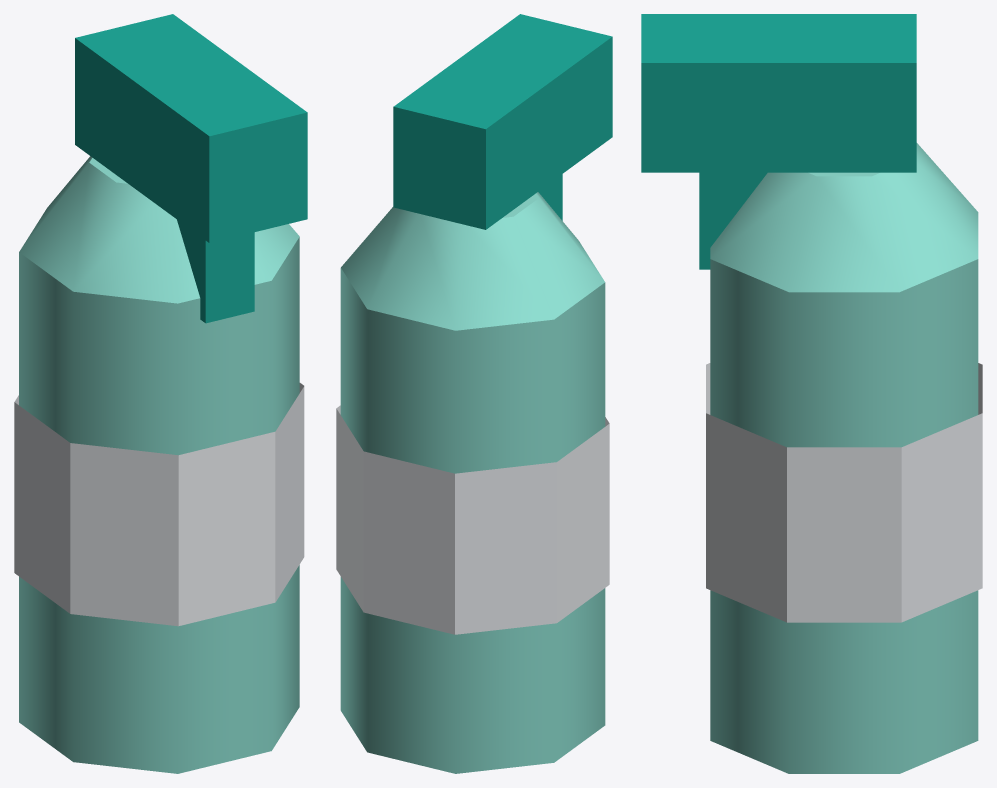
File: CM_Product_CleaningSpray.fbx
3 views of the same model, side by side, from view 1: azimuth 30°, elevation 25°; view 2: azimuth 150°, elevation 25°; view 3: azimuth 270°, elevation 25° (orthographic). The views are drawn at different scales.
Visible parts, largest first — view 1: CleaningSpray; view 2: CleaningSpray; view 3: CleaningSpray.
Boxes of the visible parts, x1,y1,x2,y2 form: CleaningSpray: [14, 14, 307, 773]; CleaningSpray: [336, 14, 612, 773]; CleaningSpray: [641, 14, 982, 773].
Size of the model in its own units: 0.5728 by 0.7064 by 1.55.
1 material, 1 textured.
